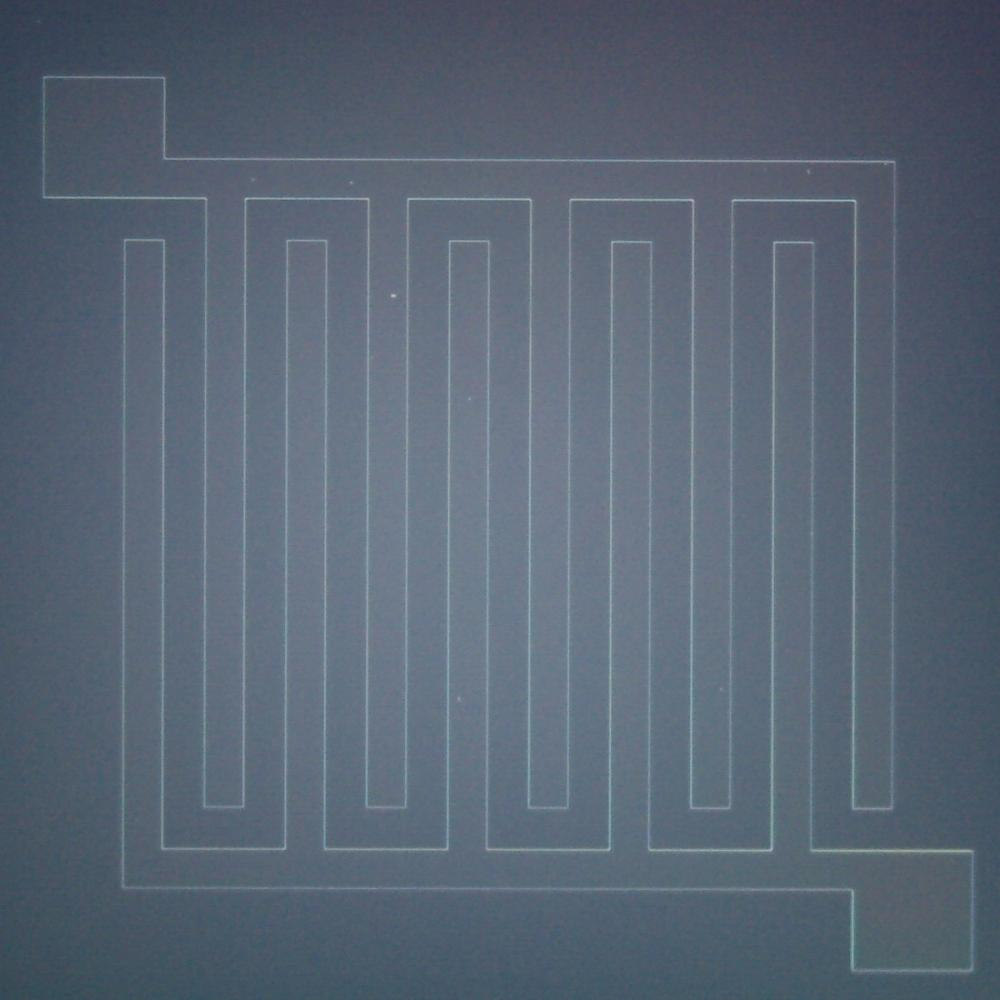dot: (806, 168, 812, 175), (391, 292, 397, 298), (349, 181, 353, 185)
